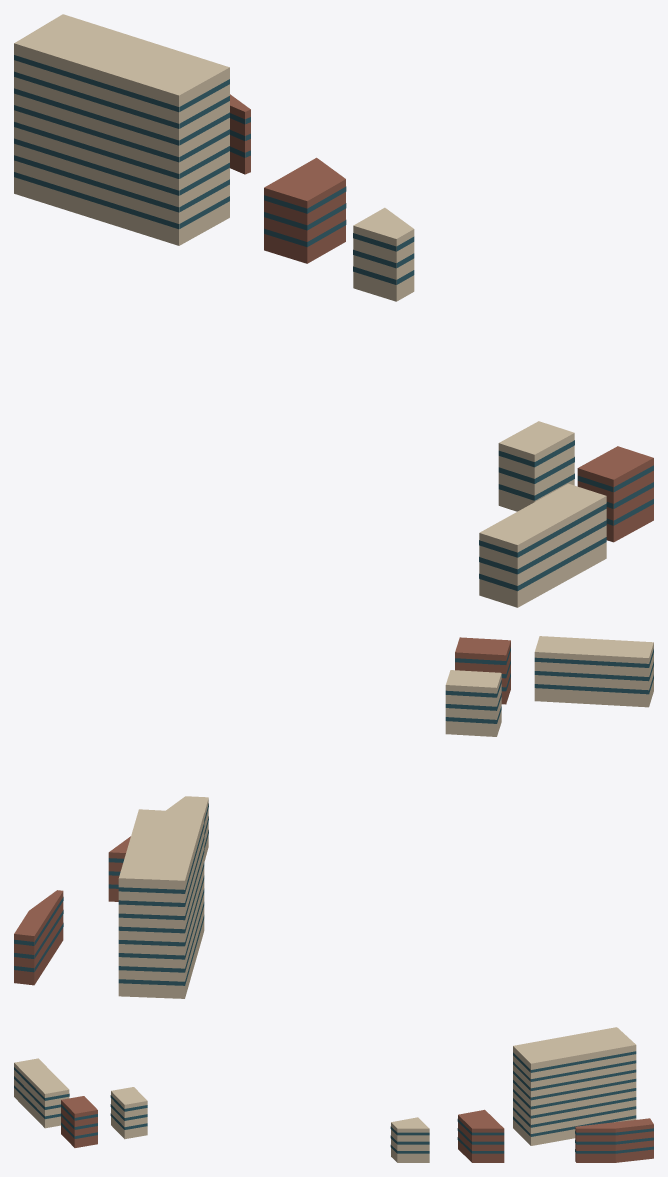
The model's file is city_10_0.glb.
3 views of the same model, one above another, from view 1: azimuth 30°, elevation 25°; view 2: azimuth 150°, elevation 25°; view 3: azimuth 270°, elevation 25° (orthographic). The views are drawn at different scales.
Parts seen in each view (by area): view 1: city_10_0; view 2: city_10_0; view 3: city_10_0.
Boxes of the visible parts, x1,y1,x2,y2 form: city_10_0: (14, 14, 653, 607); city_10_0: (14, 636, 653, 998); city_10_0: (14, 1027, 653, 1162).
Bounding box in the file's own units: 65.82 × 36 × 253.
